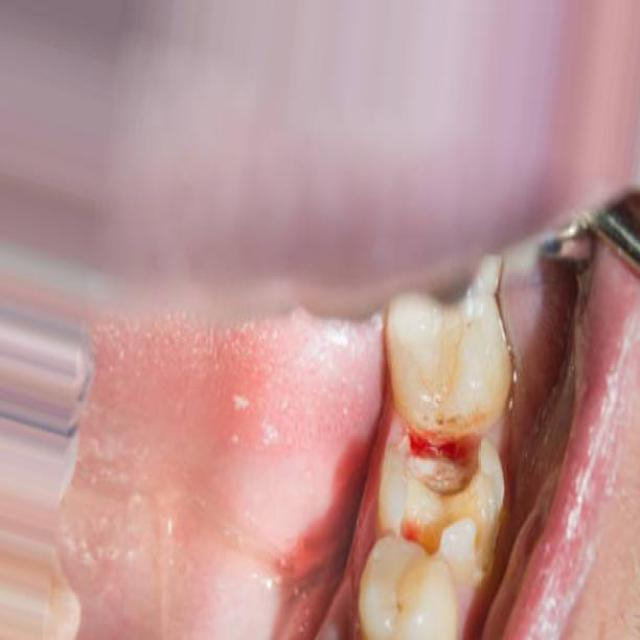caries: (386, 389, 507, 570)
